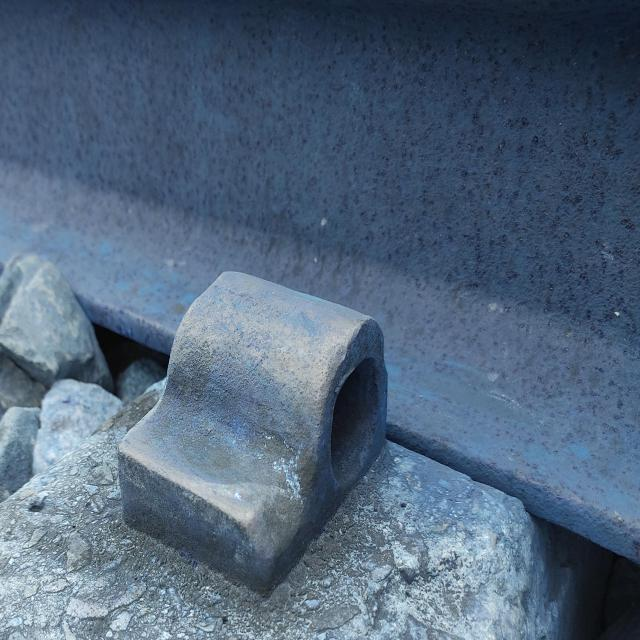Missing Fastener: (46, 217, 507, 630)
